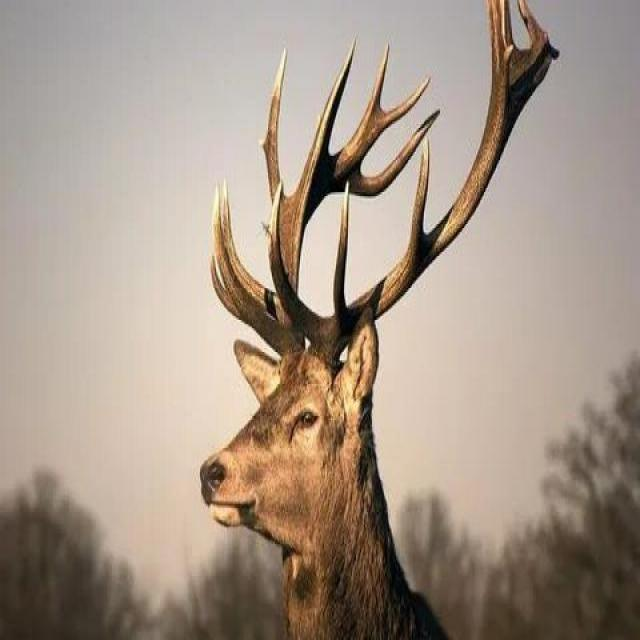deer: (162, 74, 557, 640)
